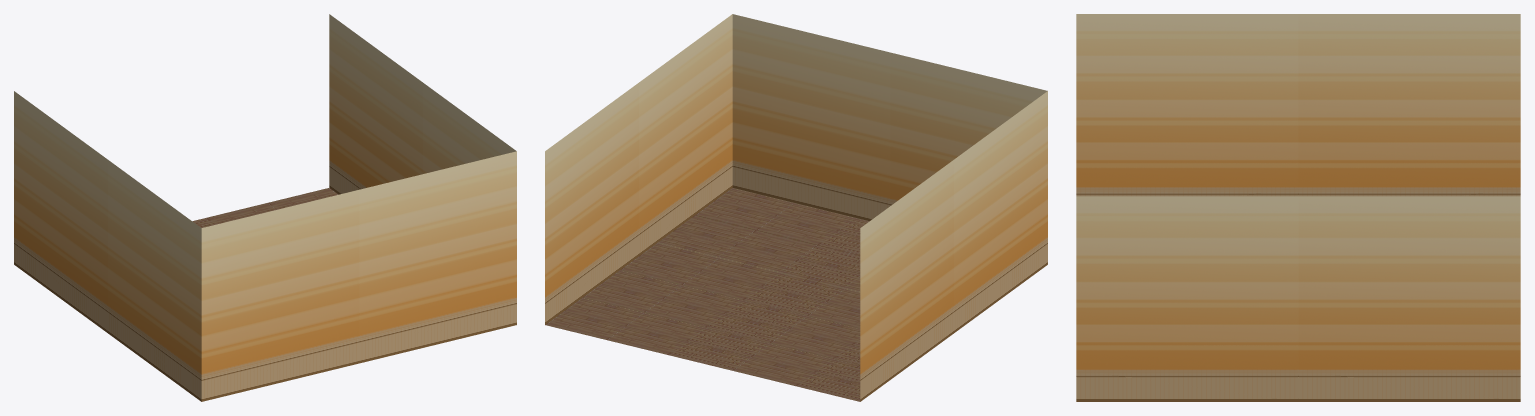
3 renders of one model, left to right at view 1: azimuth 30°, elevation 25°; view 2: azimuth 150°, elevation 25°; view 3: azimuth 270°, elevation 25°, orthographic. The views are drawn at different scales.
Parts seen in each view (by area): view 1: BG3; view 2: BG3; view 3: BG3.
Part boxes in pixels (<box>): BG3: <box>14,14,516,401</box>; BG3: <box>545,14,1047,401</box>; BG3: <box>1076,14,1520,401</box>.
Size of the model in its own units: 18642 by 19205 by 9820.
